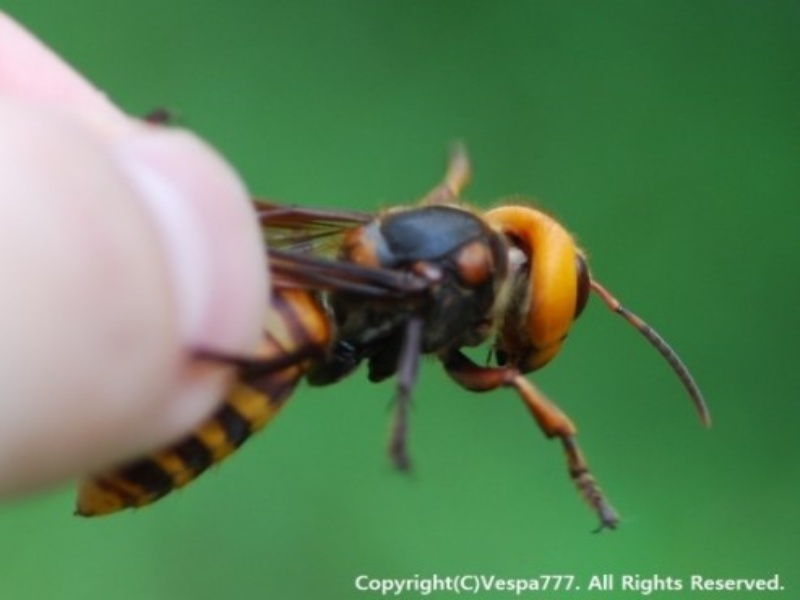asian_giant_hornet: (75, 198, 600, 519)
